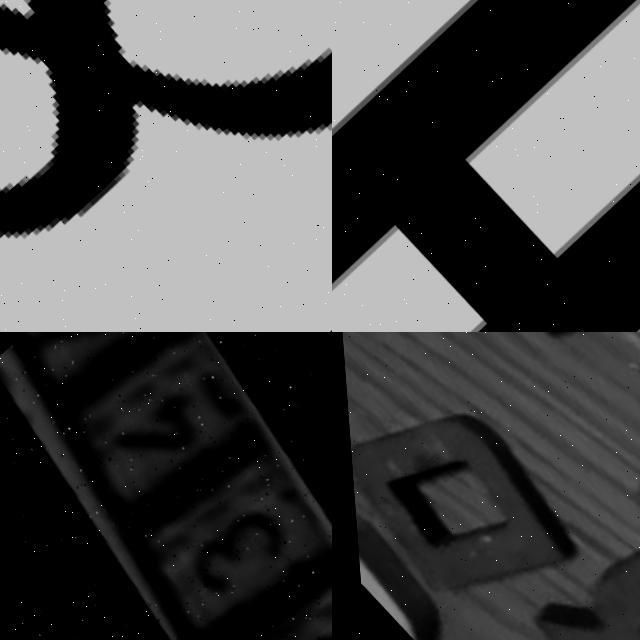3: (161, 495, 303, 632)
4: (88, 369, 233, 511), (10, 332, 158, 399)
8: (0, 0, 332, 332)
D: (342, 361, 572, 626)
H: (332, 0, 640, 332)
J: (477, 332, 640, 475)
K: (519, 533, 640, 640)
